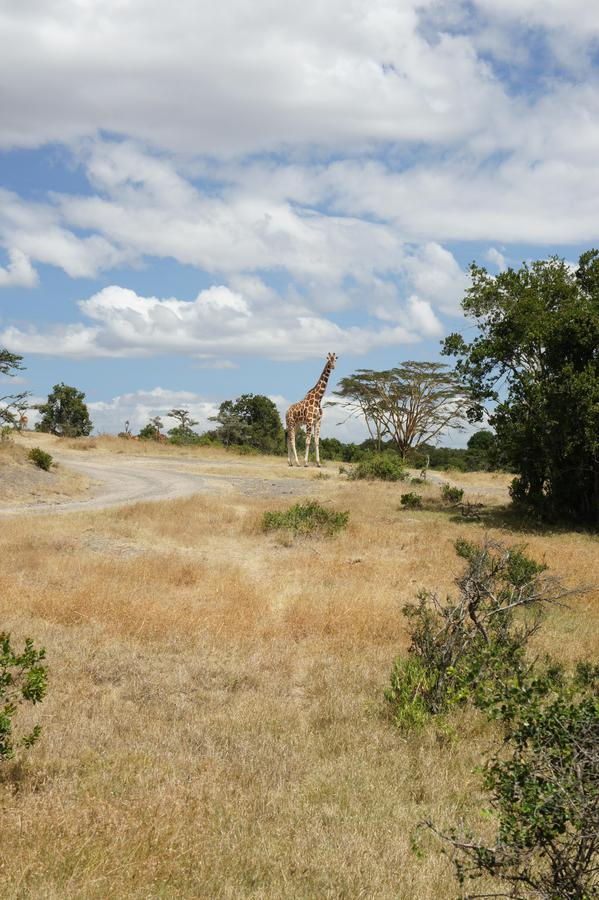giraffe: (280, 346, 340, 469)
